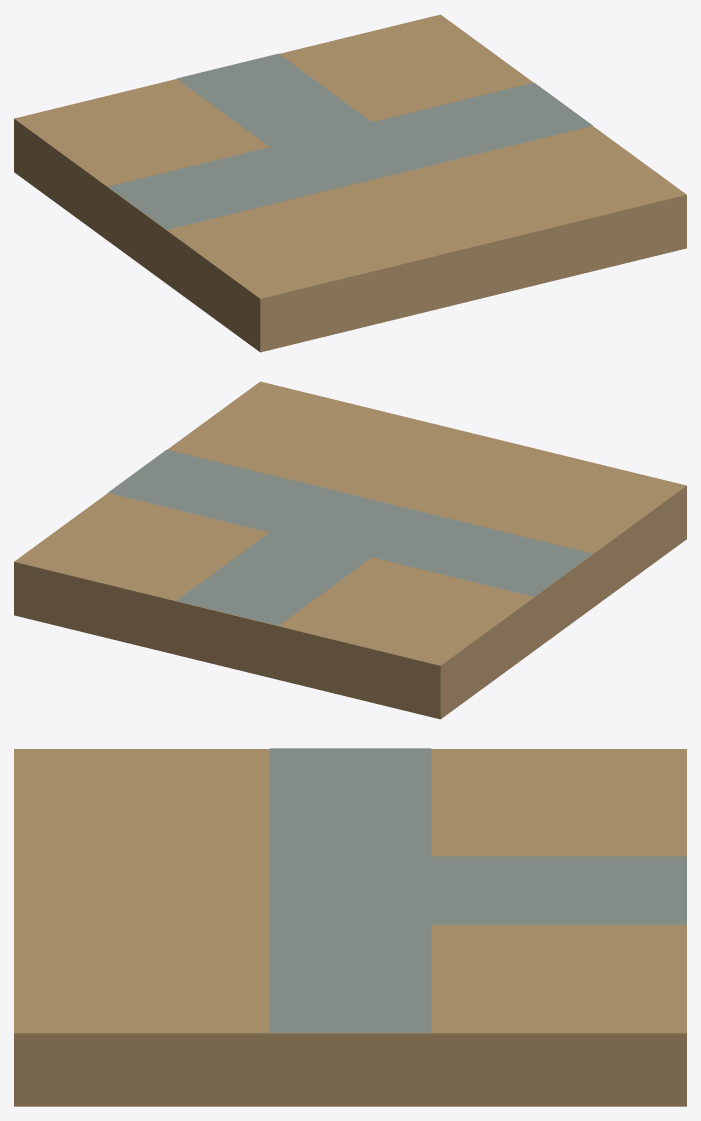
File: road_t.glb
3 renders of one model, top to bottom at view 1: azimuth 30°, elevation 25°; view 2: azimuth 150°, elevation 25°; view 3: azimuth 270°, elevation 25°, orthographic. The views are drawn at different scales.
Visible parts, largest first — view 1: road_t; view 2: road_t; view 3: road_t.
Boxes of the visible parts, <box> form: road_t: <box>14,14,686,352</box>; road_t: <box>14,381,686,719</box>; road_t: <box>14,748,686,1106</box>.
Size of the model in its own units: 1 by 0.121 by 1.
Materials: 1 (1 with a texture image).
